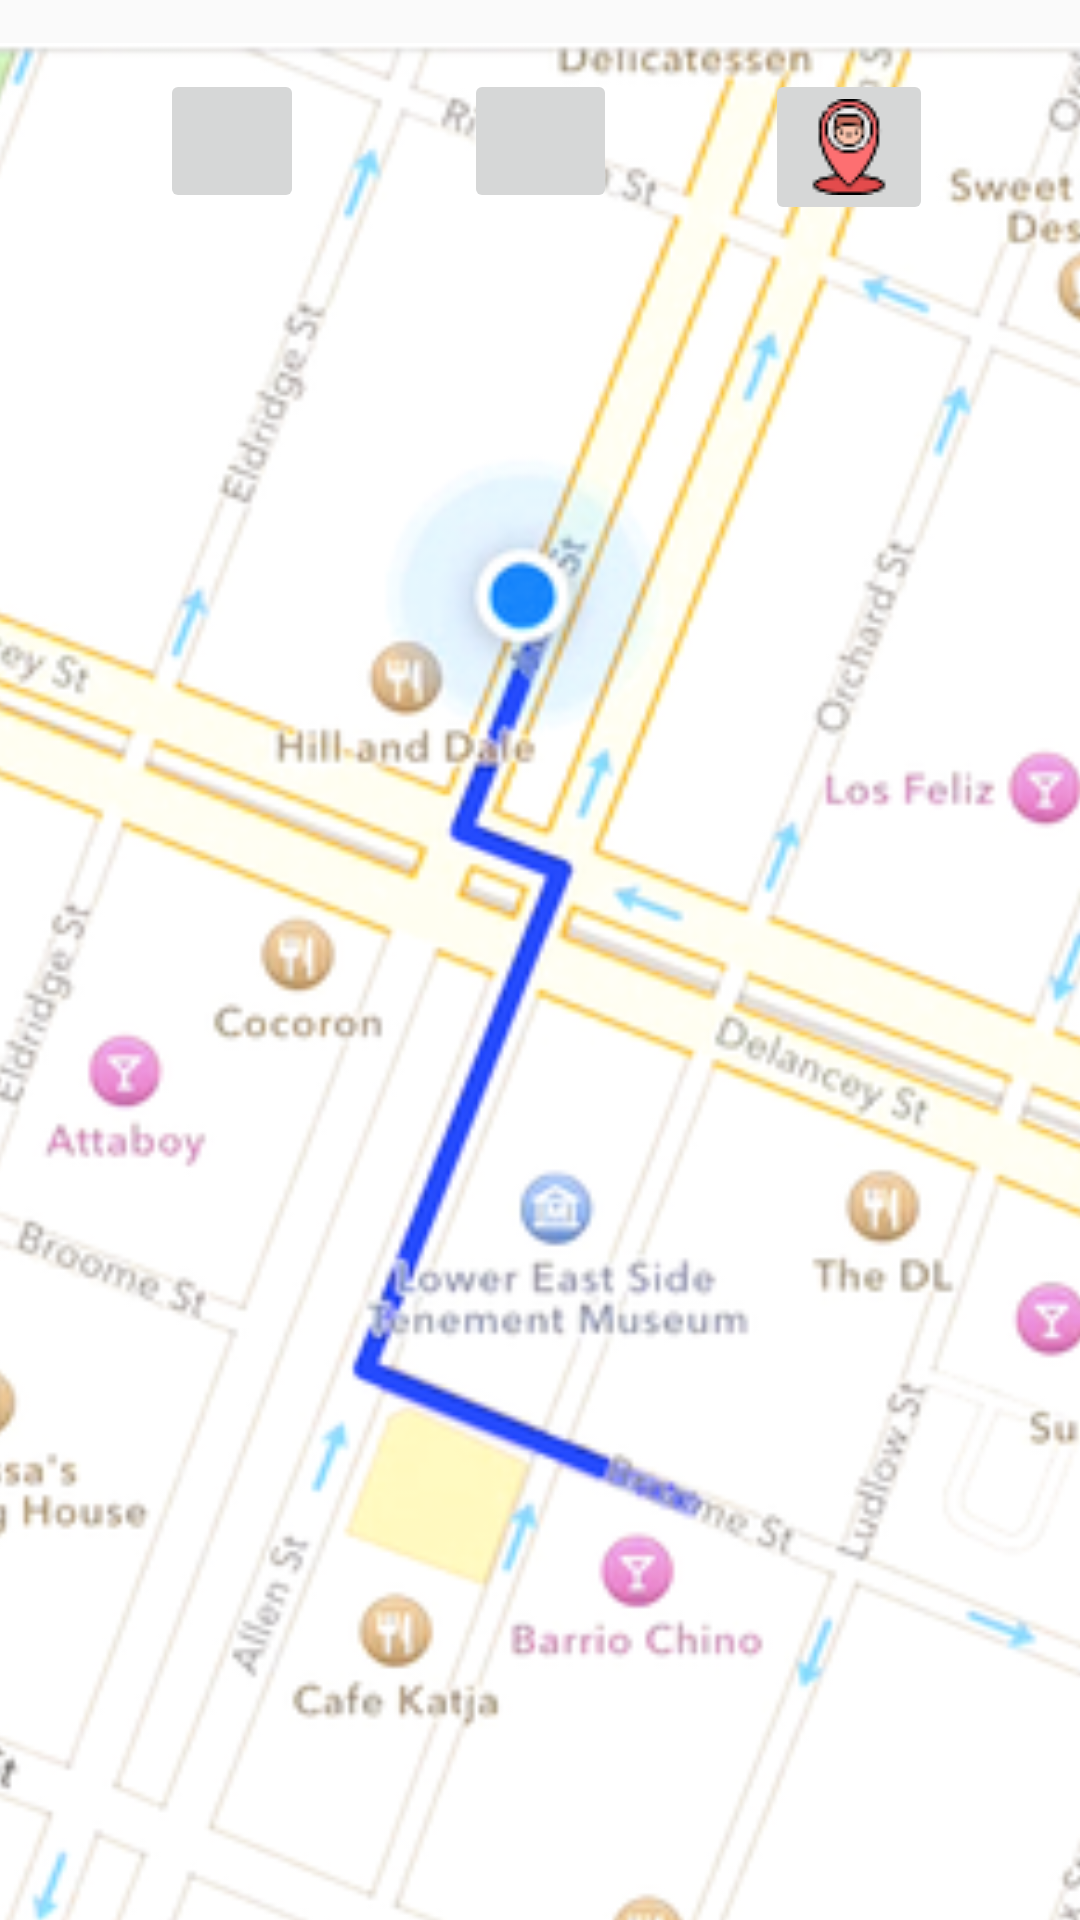

Locate icon controls on the screen. Image size 1080x1920, boxes as detection(x1, y1, x2, y2).
localizacion: detection(765, 69, 921, 225)
